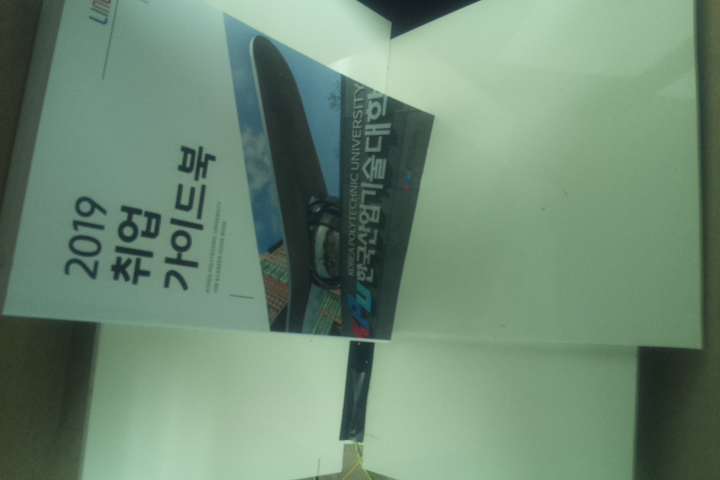book: (1, 4, 436, 346)
